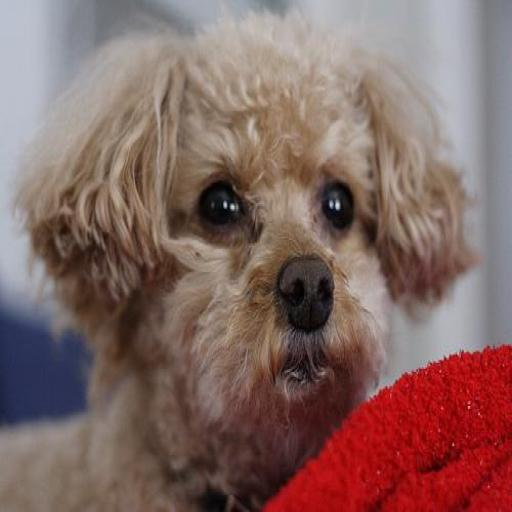dog_face: (40, 35, 464, 428)
